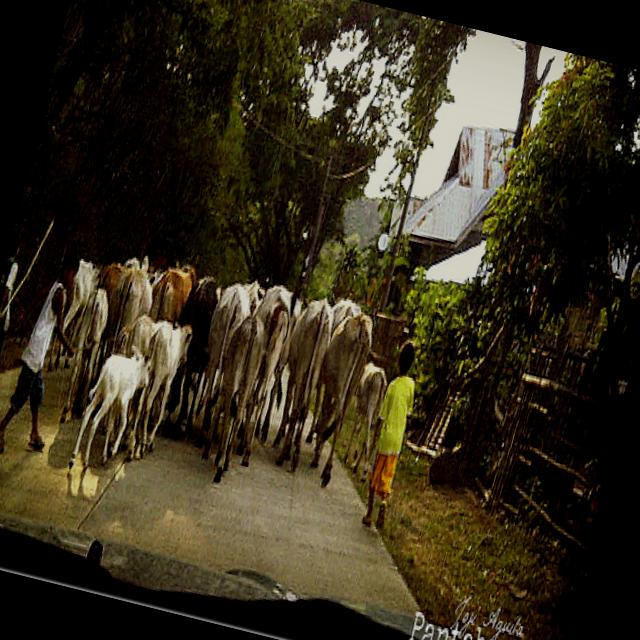Vehicle: (0, 500, 512, 640)
